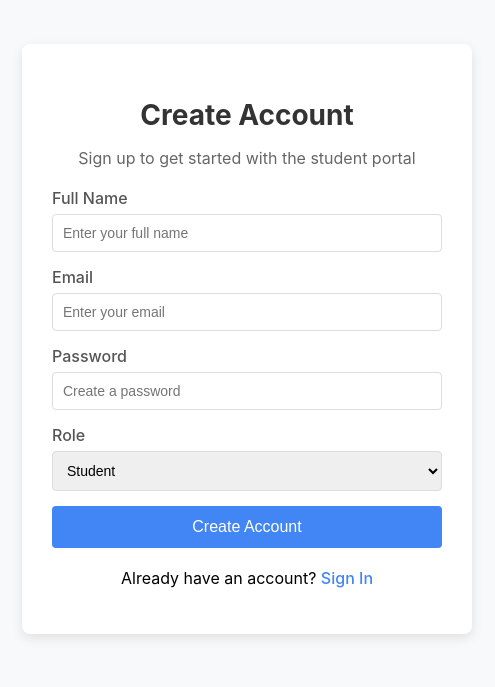
Scenario: Register – failed submission › shows generic error message when request fails without a message
Type "Jane" into the field labelled "Full Name" at (247, 233), box top-left (52, 214), bottom-right (442, 252)
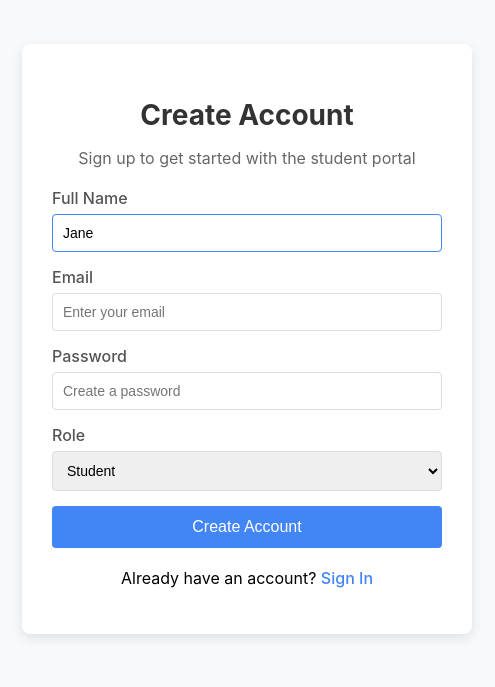
Type "jane@test.com" into the field labelled "Email" at (247, 312), box top-left (52, 293), bottom-right (442, 331)
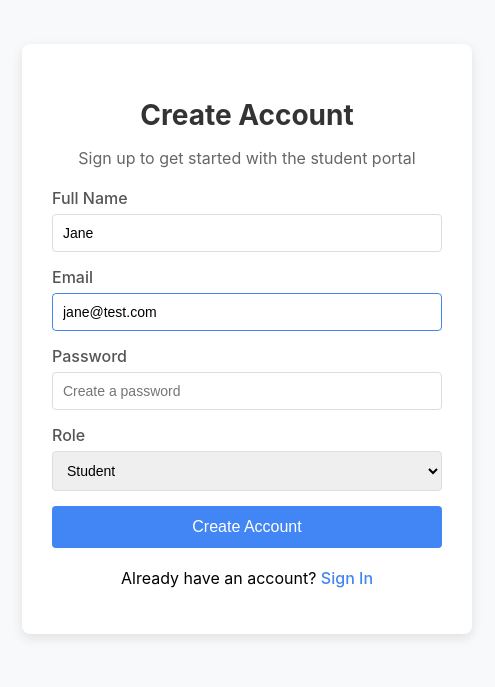
Type "pass" into the password field labelled "Password" at (247, 391), box top-left (52, 372), bottom-right (442, 410)
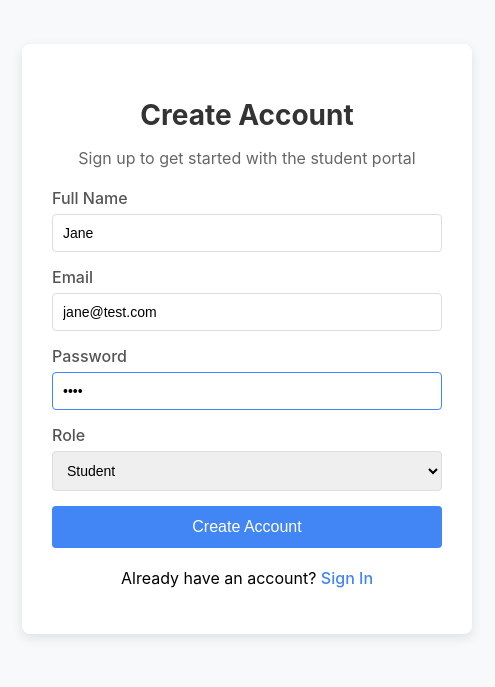
Submit the form "Full Name Email Password Role Create Account", box top-left (52, 188), bottom-right (442, 548)
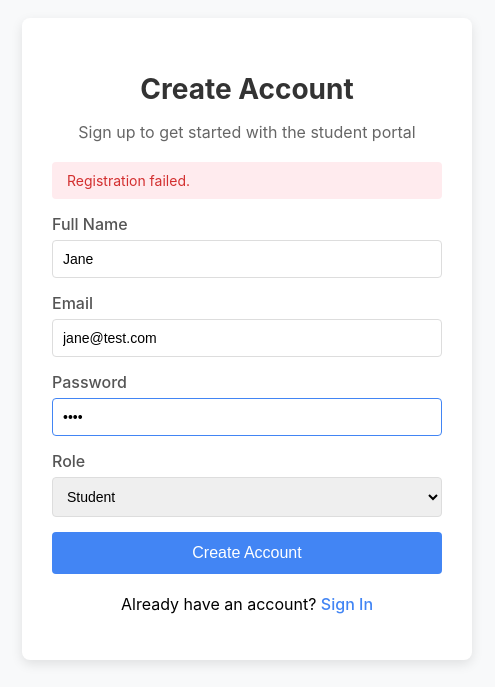
expect the text "Registration failed." is shown: met, box top-left (52, 162), bottom-right (442, 199)
